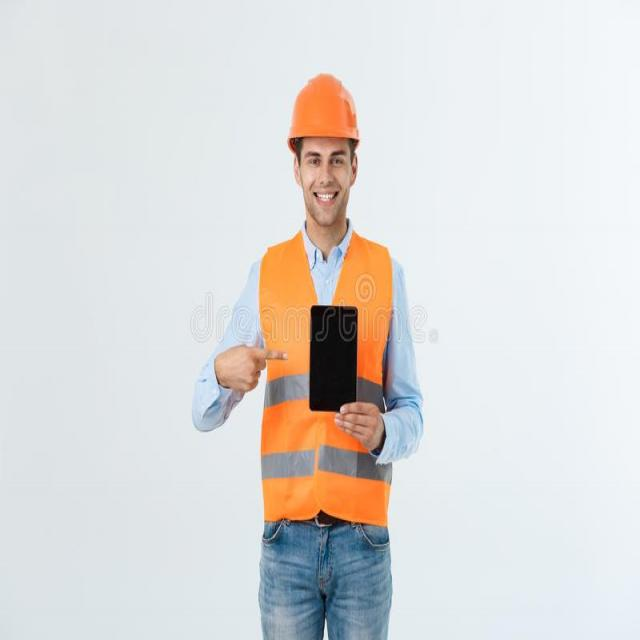Reflective-Jacket: (252, 233, 398, 531)
Safety-Helmet: (284, 67, 362, 152)
